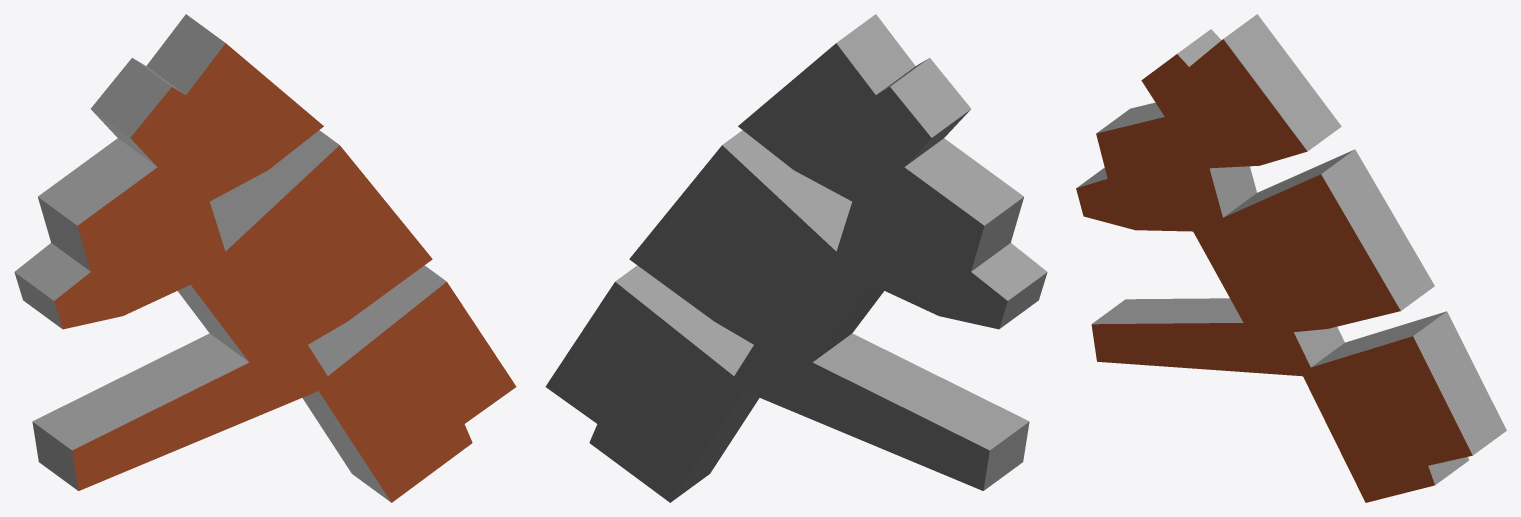
File: construction_6752_assumed_A_Casa_h6m.obj
3 views of the same model, side by side, from view 1: azimuth 30°, elevation 25°; view 2: azimuth 150°, elevation 25°; view 3: azimuth 330°, elevation 25° (orthographic). The views are drawn at different scales.
Visible parts, largest first — view 1: construction_6752_assumed_A_Casa; view 2: construction_6752_assumed_A_Casa; view 3: construction_6752_assumed_A_Casa.
Part boxes in pixels (x1,y1,x2,y2): construction_6752_assumed_A_Casa: (14, 14, 516, 502); construction_6752_assumed_A_Casa: (545, 14, 1047, 502); construction_6752_assumed_A_Casa: (1076, 14, 1506, 502).
Size of the model in its own units: 40.28 by 41.64 by 6.
